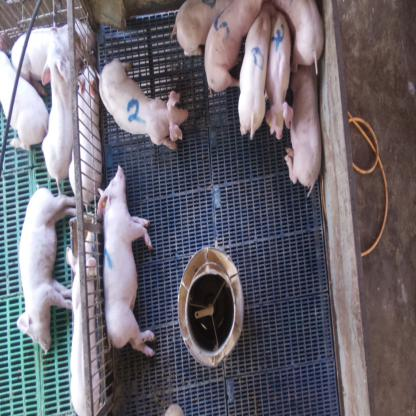2: (126, 98, 146, 126)
5: (213, 10, 231, 44)
7: (271, 22, 285, 52)
N-A: (253, 46, 265, 71)
